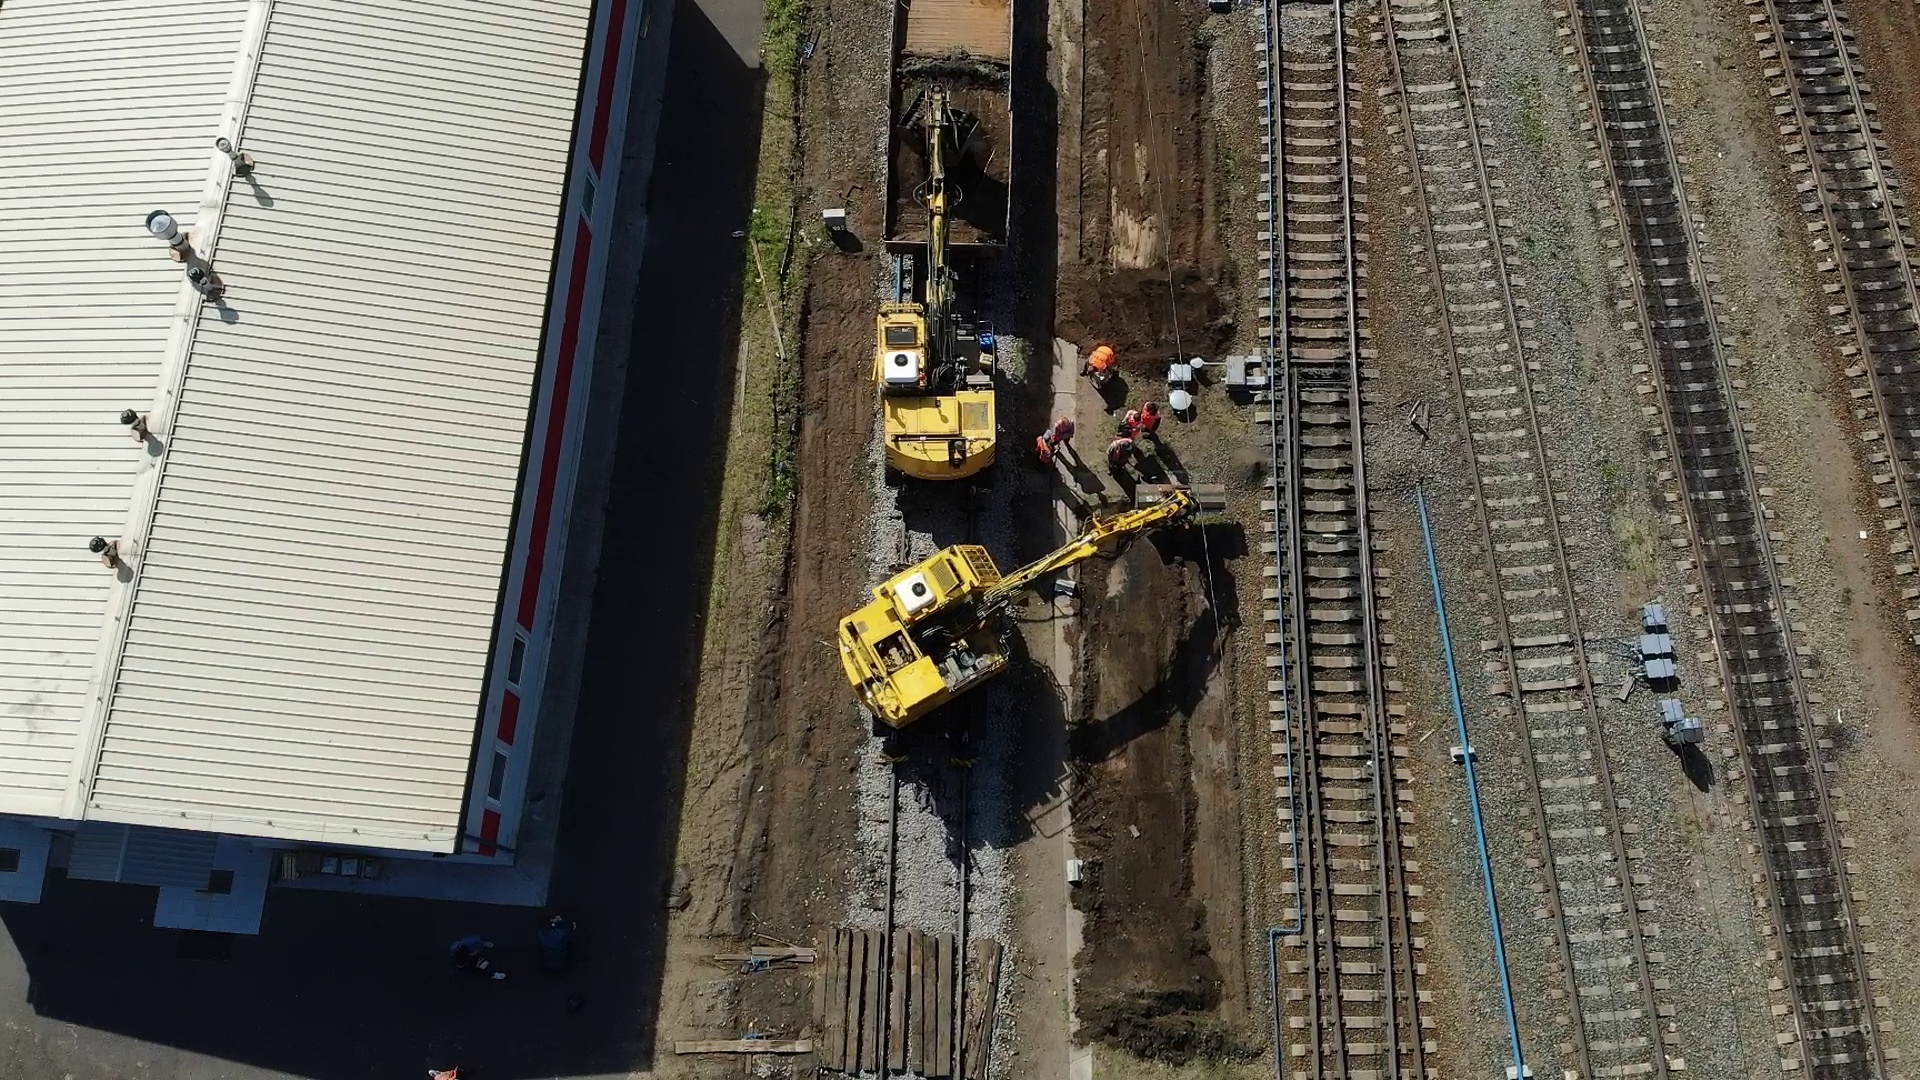kjtv: (841, 537, 1085, 757), (874, 209, 1004, 488)
